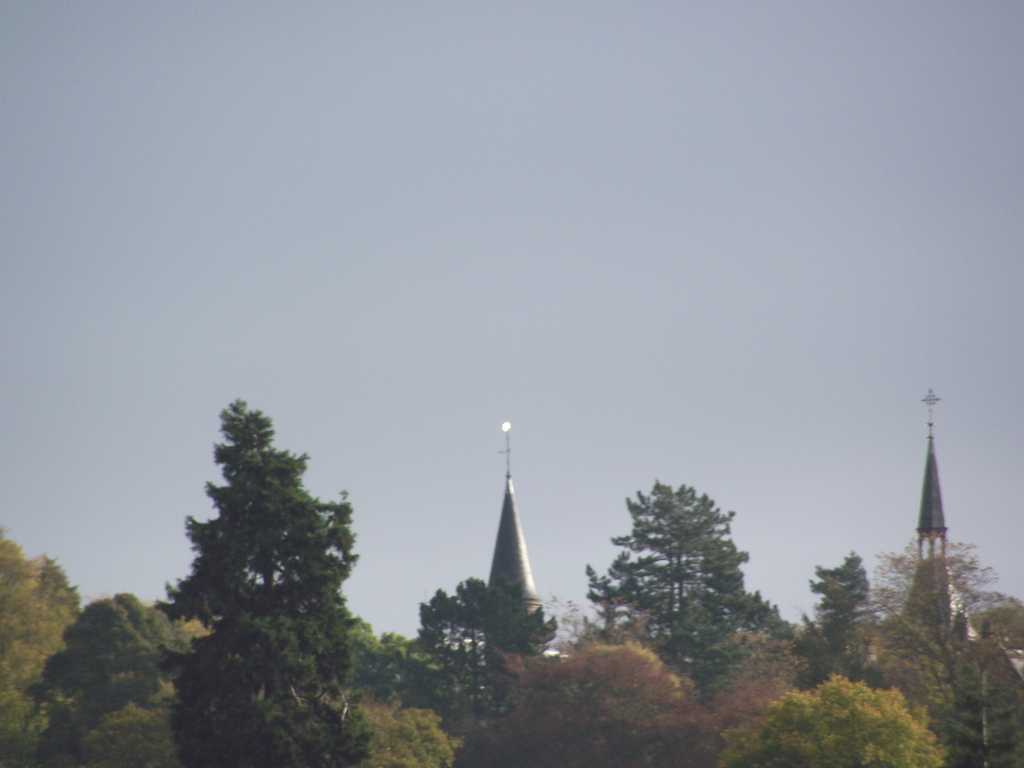Tree: (156, 381, 371, 741), (579, 477, 794, 707), (858, 536, 1019, 767), (458, 637, 720, 767), (20, 592, 196, 767), (413, 570, 556, 731), (727, 669, 949, 767), (0, 539, 83, 767), (691, 631, 822, 767), (787, 545, 896, 696), (529, 593, 680, 691), (325, 605, 430, 712), (935, 649, 1023, 767), (83, 703, 191, 767), (348, 705, 455, 767), (968, 599, 1023, 657)
